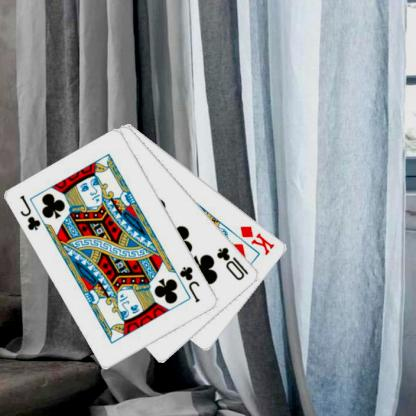10C: (214, 244, 250, 282)
JC: (176, 264, 202, 304), (17, 192, 43, 232)
KD: (238, 223, 276, 256)
